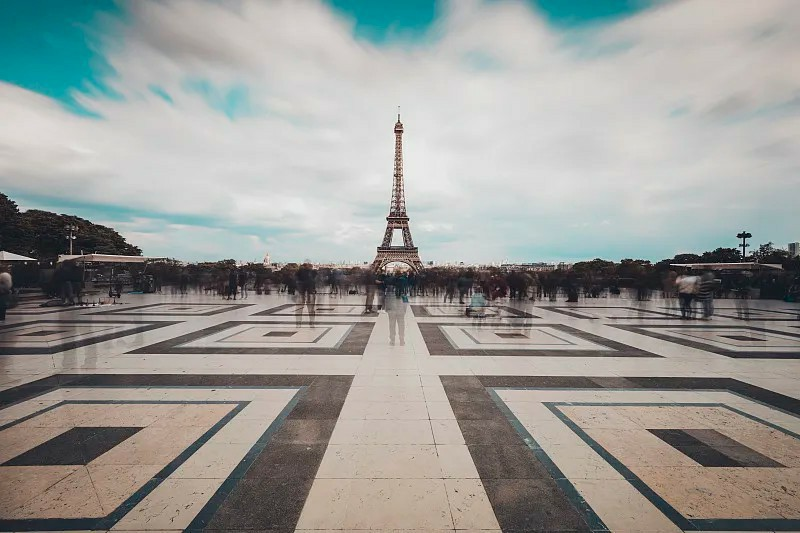Eiffel: (369, 106, 425, 274)
